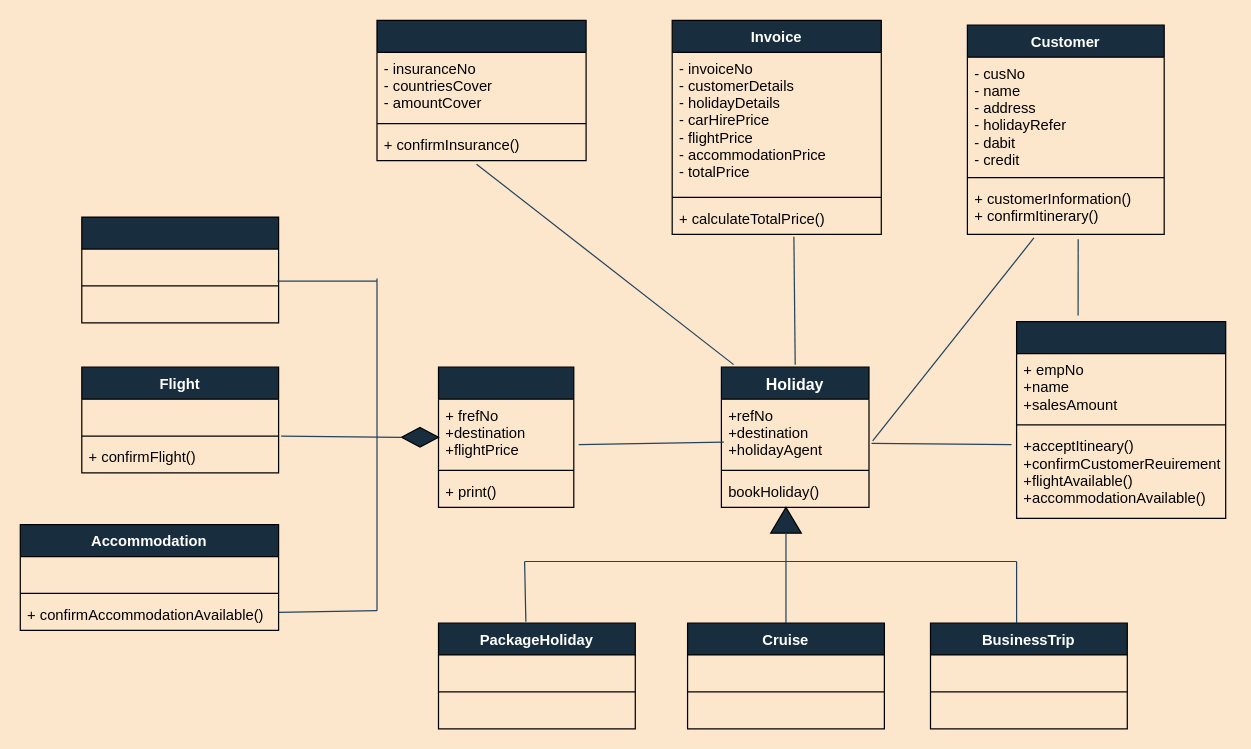
Image size: 1251x749. Some labels were removed from this diagram. Each missing label, with the box of its shape:
CarHire: (81, 216, 279, 323)
Insurtance: (376, 19, 586, 161)
Itinerary: (437, 366, 574, 507)
SalesConsultant: (1015, 320, 1226, 518)
